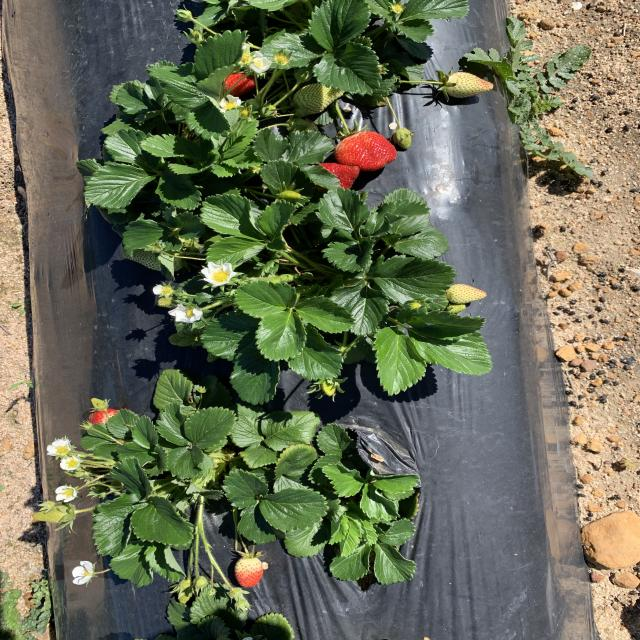unripe: (294, 160, 364, 202), (332, 130, 400, 172), (199, 69, 270, 99)
